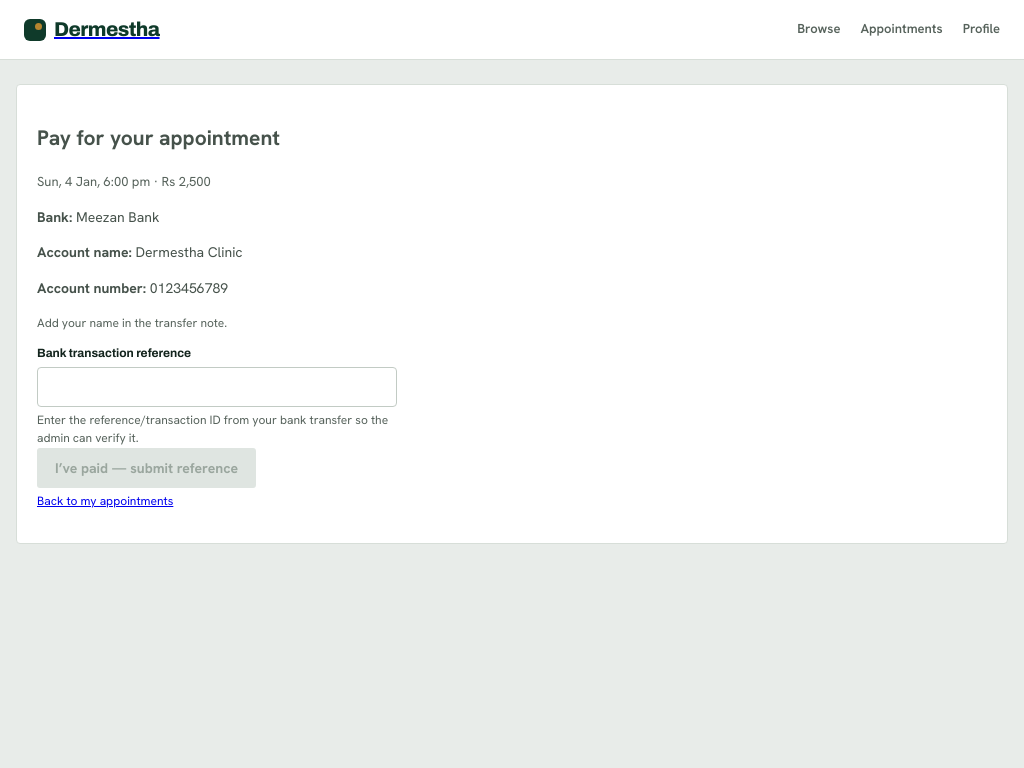
Test case: P-07 PaymentInstructions (manual payment) › disables submit until the reference is at least 3 characters
Expected: the text "Meezan Bank" is shown, x1=76 y1=208 x2=159 y2=226
Expected: the button "I’ve paid — submit reference" is disabled, x1=37 y1=448 x2=256 y2=488
Step 1. Type "ab" into the field labelled "Bank transaction reference" → point(217, 387), box x1=37 y1=367 x2=397 y2=407
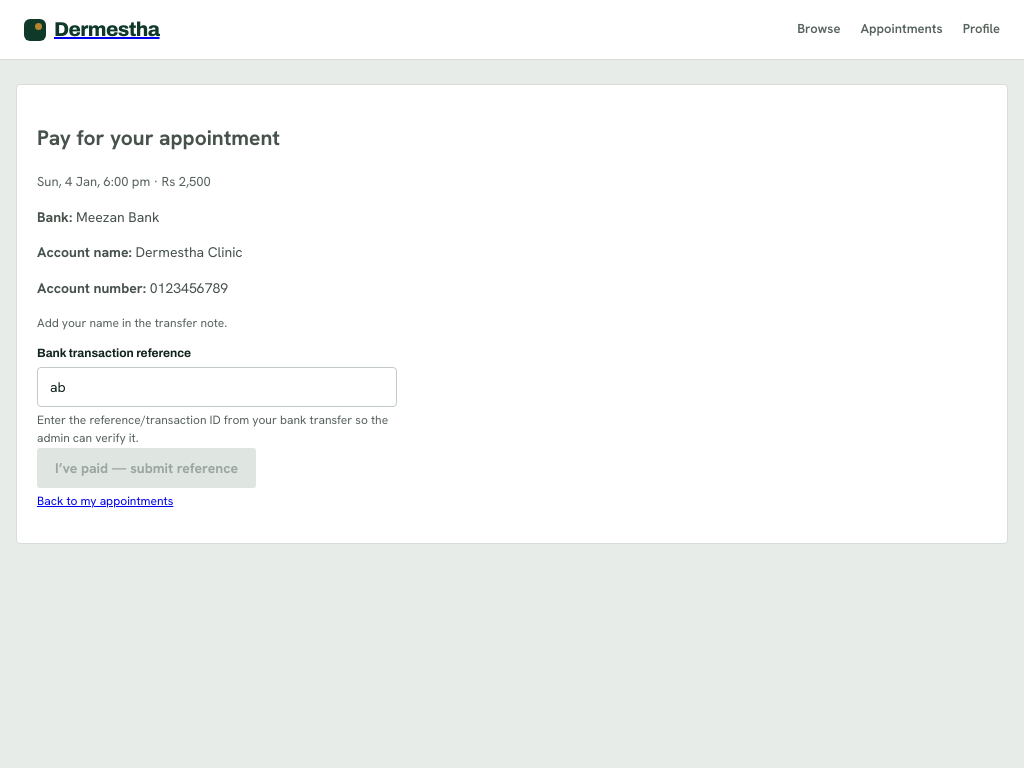
Expected: the button "I’ve paid — submit reference" is disabled, x1=37 y1=448 x2=256 y2=488
Step 2. Replace the text in the field labelled "Bank transaction reference" with "abc" → point(217, 387), box x1=37 y1=367 x2=397 y2=407
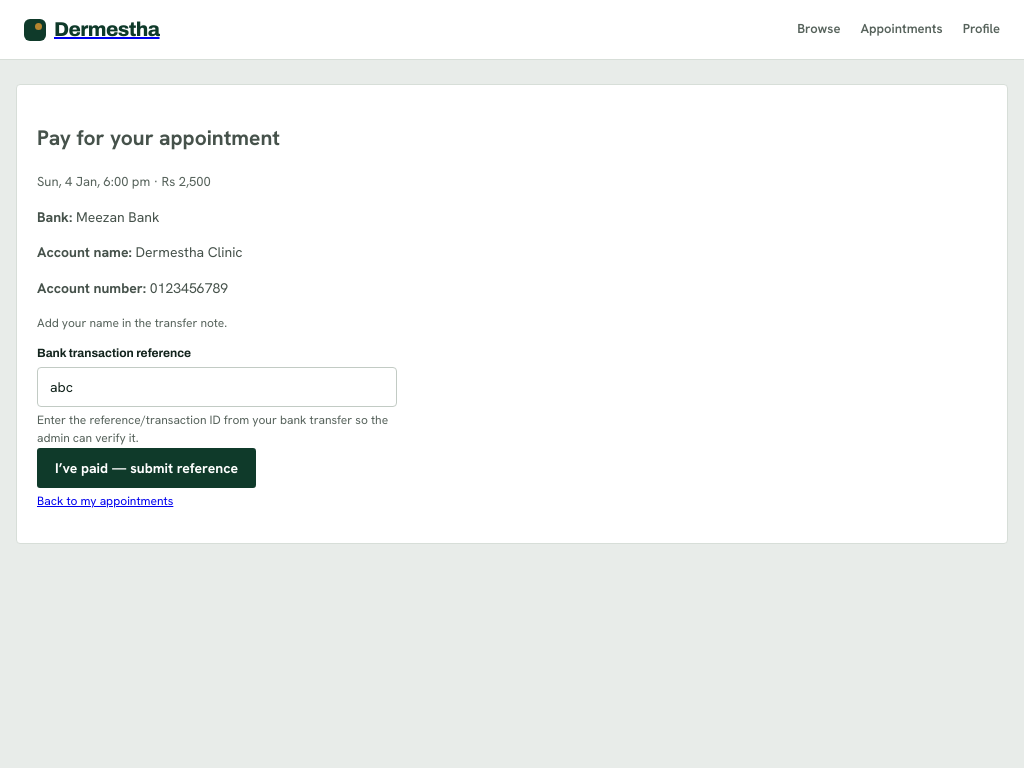
Now the button "I’ve paid — submit reference" is enabled, box x1=37 y1=448 x2=256 y2=488
